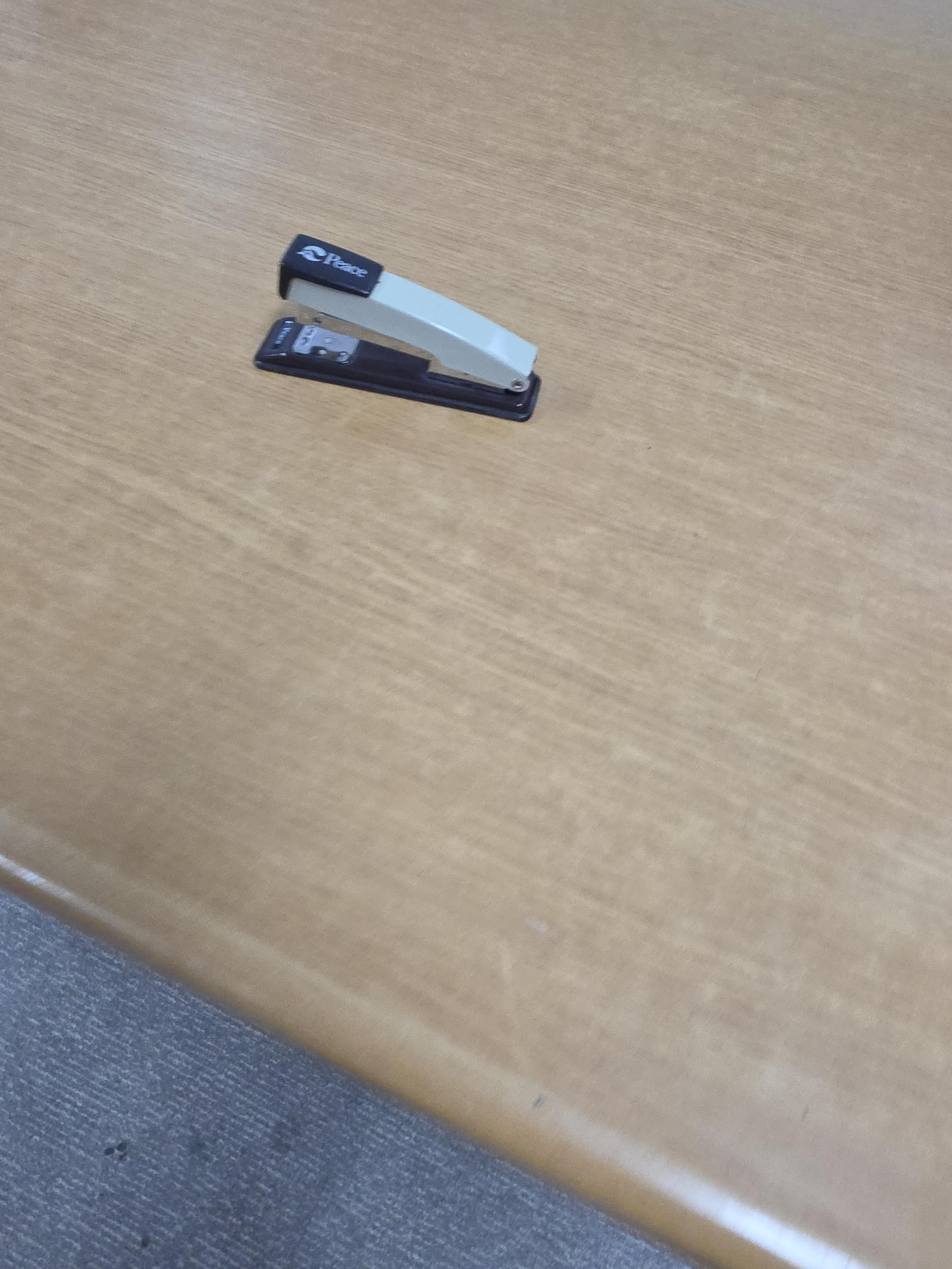stapler: (254, 233, 542, 422)
